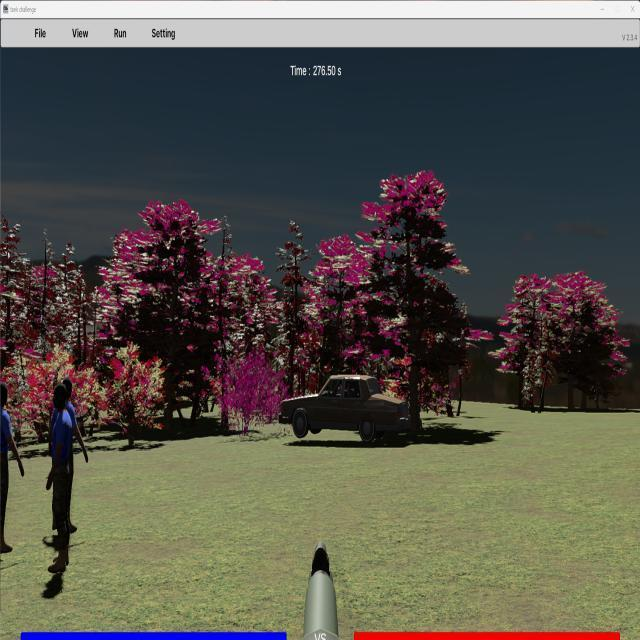Human: (45, 377, 84, 574), (0, 382, 24, 557)
car: (278, 373, 413, 445)
